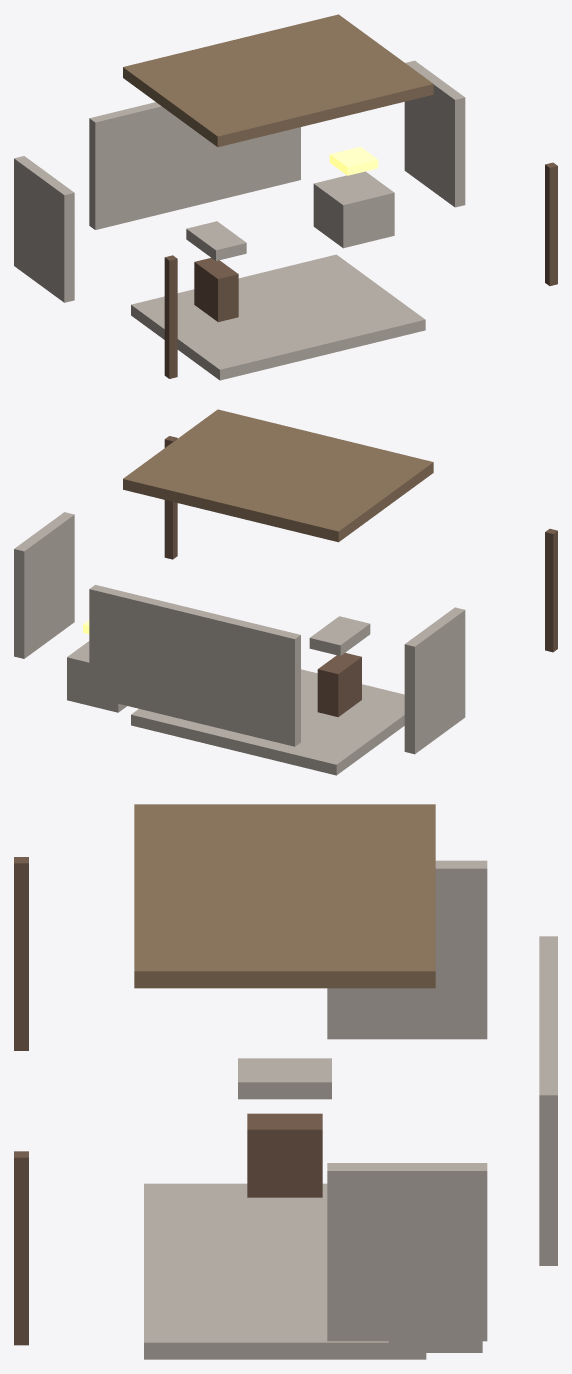
The model's file is VillageSmithy.fbx.
3 renders of one model, top to bottom at view 1: azimuth 30°, elevation 25°; view 2: azimuth 150°, elevation 25°; view 3: azimuth 270°, elevation 25°, orthographic. The views are drawn at different scales.
Parts seen in each view (by area): view 1: VillageSmithy; view 2: VillageSmithy; view 3: VillageSmithy.
Boxes of the visible parts, x1,y1,x2,y2 form: VillageSmithy: (14, 14, 557, 380); VillageSmithy: (14, 409, 557, 775); VillageSmithy: (14, 804, 557, 1359).
Bounding box in the file's own units: 390 × 230 × 289.
